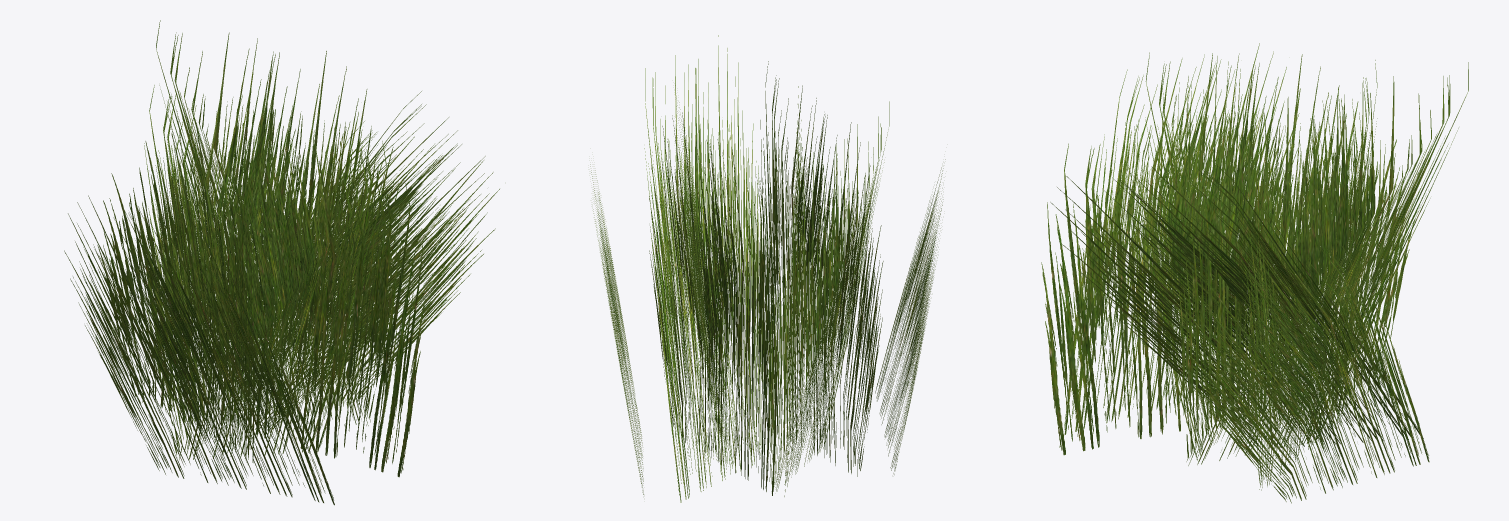
Rendered from grass2.glb.
3 renders of one model, left to right at view 1: azimuth 30°, elevation 25°; view 2: azimuth 150°, elevation 25°; view 3: azimuth 270°, elevation 25°, orthographic. The views are drawn at different scales.
Visible parts, largest first — view 1: grass2; view 2: grass2; view 3: grass2.
Boxes of the visible parts, bbox=[...] form: grass2: bbox=[64, 20, 499, 505]; grass2: bbox=[590, 35, 945, 502]; grass2: bbox=[1041, 43, 1468, 503].
Size of the model in its own units: 2.38 by 1.88 by 2.2.
1 material, 1 textured.
